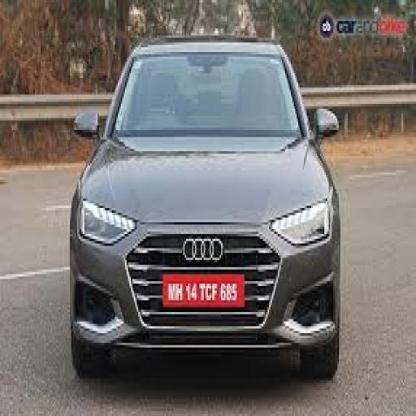car: (59, 27, 351, 388)
